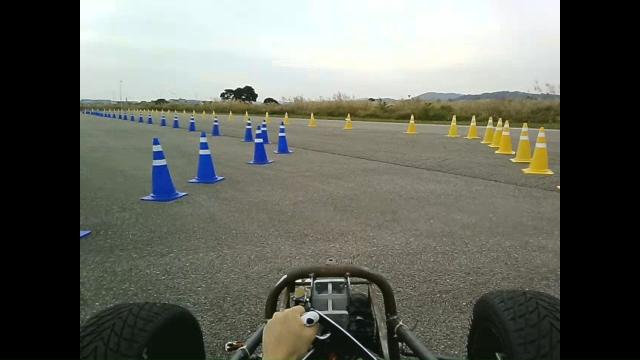blue cone: (139, 136, 188, 202), (189, 133, 228, 186), (241, 130, 275, 169)
yellow cone: (510, 122, 532, 163), (494, 120, 515, 154), (480, 116, 495, 144), (464, 115, 480, 139), (444, 114, 460, 137), (404, 113, 418, 134), (343, 112, 353, 130), (307, 112, 317, 127), (283, 111, 290, 124), (264, 111, 271, 123), (243, 110, 249, 122), (228, 110, 234, 120)
